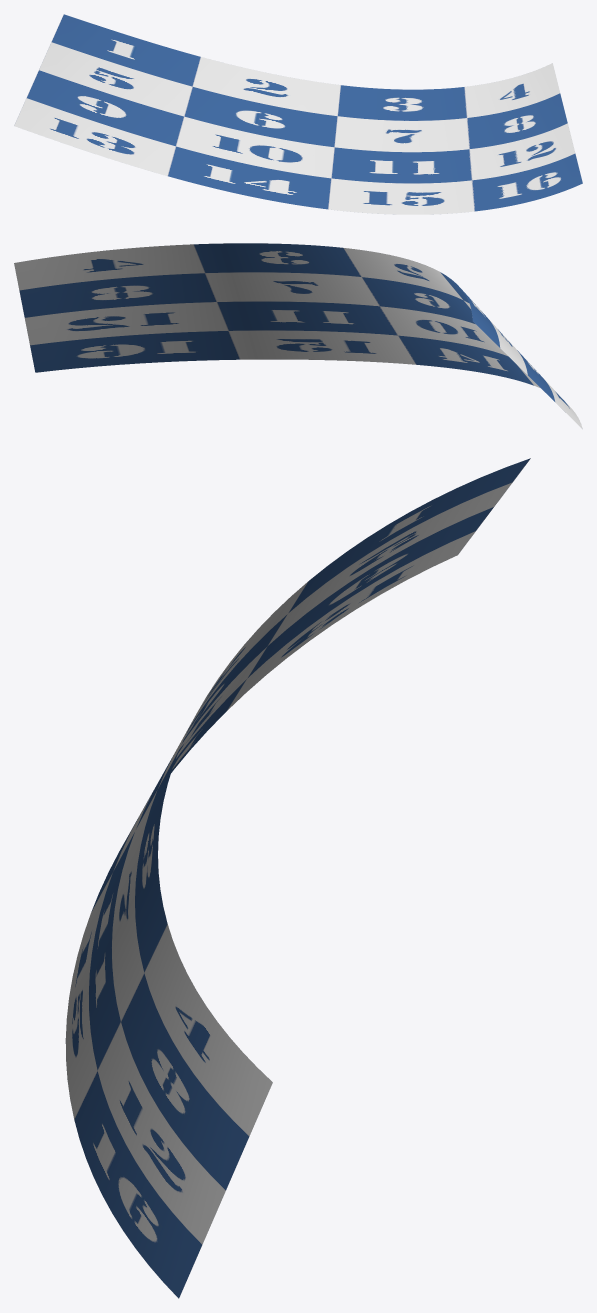
The model's file is NeWind1.fbx.
3 views of the same model, one above another, from view 1: azimuth 30°, elevation 25°; view 2: azimuth 150°, elevation 25°; view 3: azimuth 270°, elevation 25° (orthographic). The views are drawn at different scales.
Visible parts, largest first — view 1: SM_e_Plc_P0002_Wind002; view 2: SM_e_Plc_P0002_Wind002; view 3: SM_e_Plc_P0002_Wind002.
Boxes of the visible parts, left/top/right/bottom form: SM_e_Plc_P0002_Wind002: left=14, top=14, right=582, bottom=214; SM_e_Plc_P0002_Wind002: left=14, top=243, right=582, bottom=429; SM_e_Plc_P0002_Wind002: left=65, top=458, right=530, bottom=1298.
Bounding box in the file's own units: 92.07 × 37.02 × 37.17.
